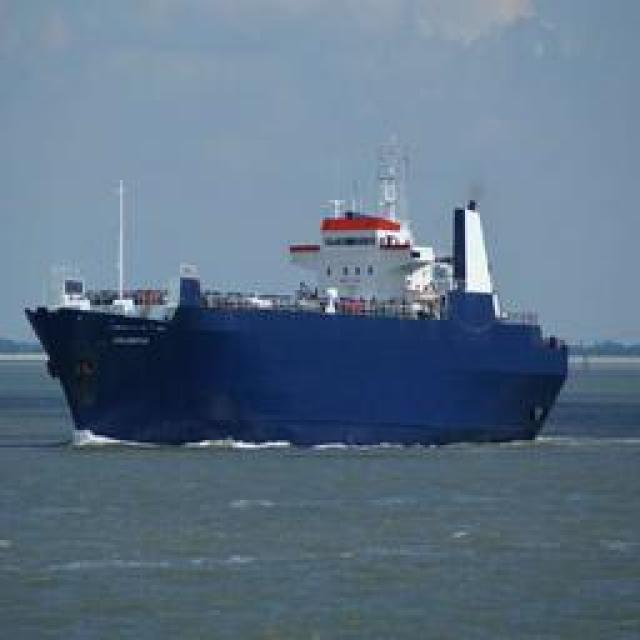ship2: (24, 135, 569, 450)
